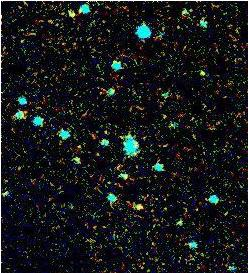star: (189, 56, 219, 86)
